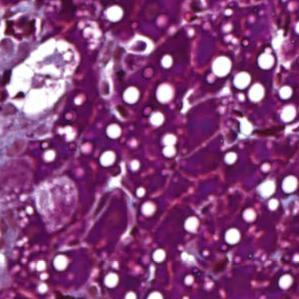ballooning: (6, 36, 82, 121)
